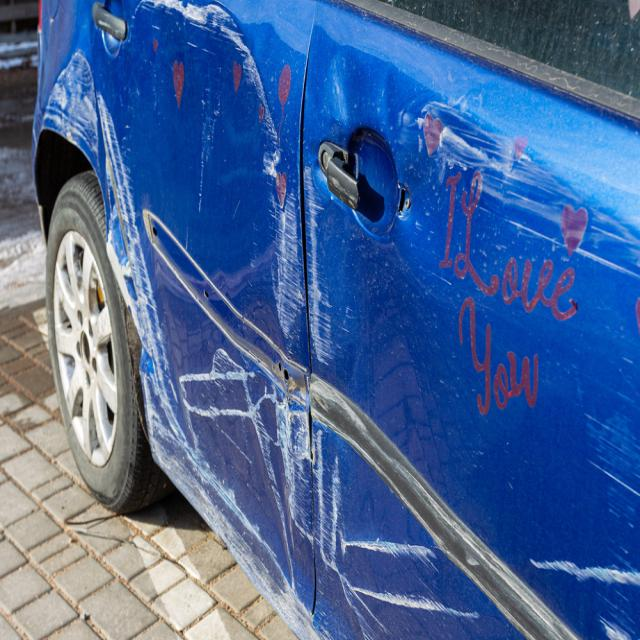dent: (130, 2, 294, 584), (332, 50, 367, 132), (381, 74, 400, 144)
scratch: (43, 57, 324, 640), (310, 373, 580, 640), (414, 88, 640, 283), (311, 430, 489, 640), (535, 358, 640, 640), (303, 166, 332, 366), (276, 191, 308, 339), (283, 402, 315, 549)
